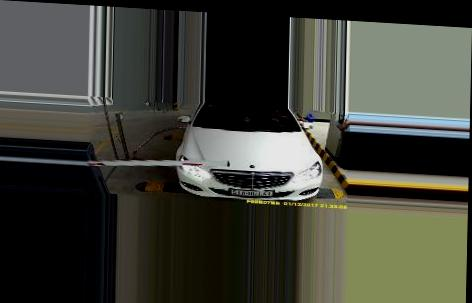License_Plate: (227, 184, 274, 199)
